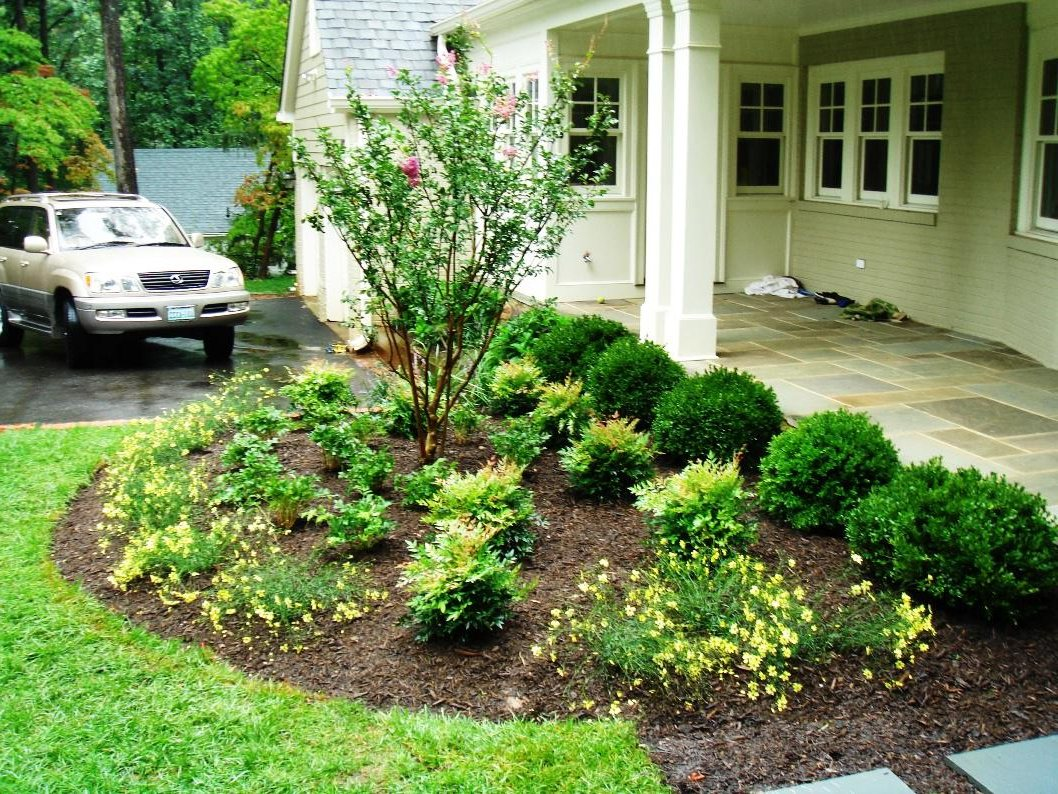bush: (840, 458, 1058, 600), (756, 406, 893, 533), (533, 317, 681, 426), (654, 369, 797, 465)
tree: (281, 22, 622, 444)
